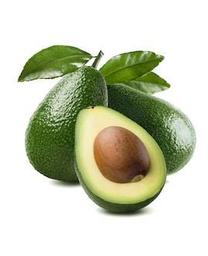avocado: (72, 106, 167, 214), (25, 65, 109, 182), (92, 83, 197, 176)
